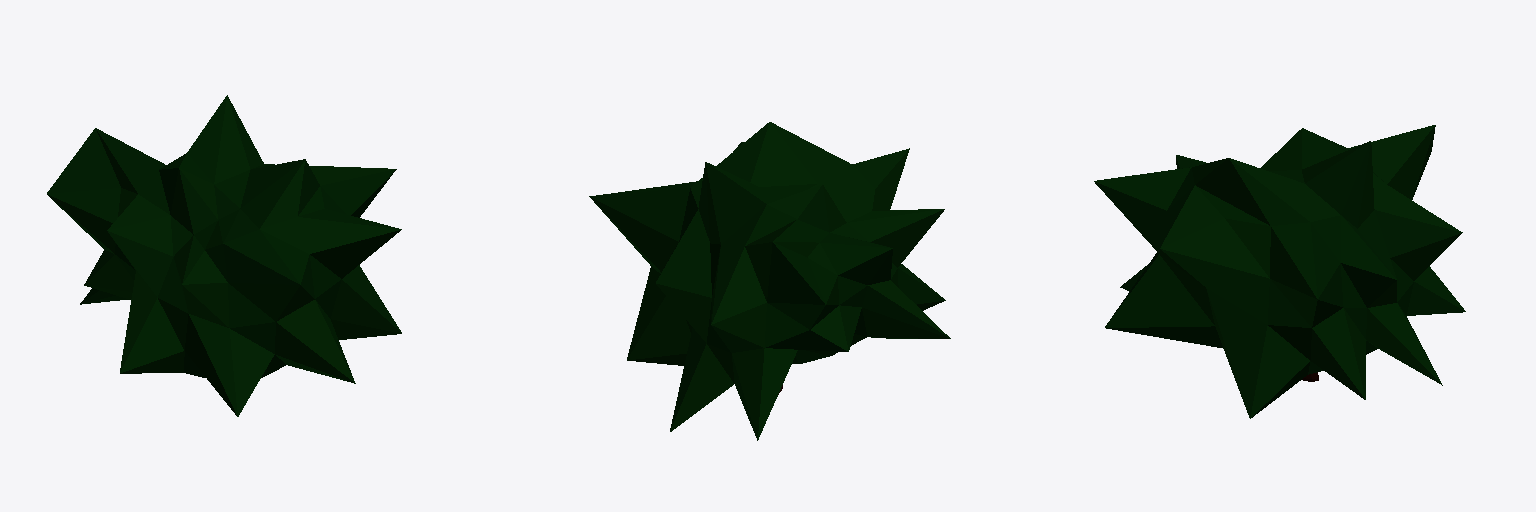
Rendered from rag.obj.
3 renders of one model, left to right at view 1: azimuth 30°, elevation 25°; view 2: azimuth 150°, elevation 25°; view 3: azimuth 270°, elevation 25°, orthographic.
Parts seen in each view (by area): view 1: Cube.251; view 2: Cube.251; view 3: Cube.251.
Boxes of the visible parts, <box> form: Cube.251: <box>47,95,401,416</box>; Cube.251: <box>589,122,950,440</box>; Cube.251: <box>1094,125,1465,418</box>.
Size of the model in its own units: 19.78 by 14.62 by 19.99.